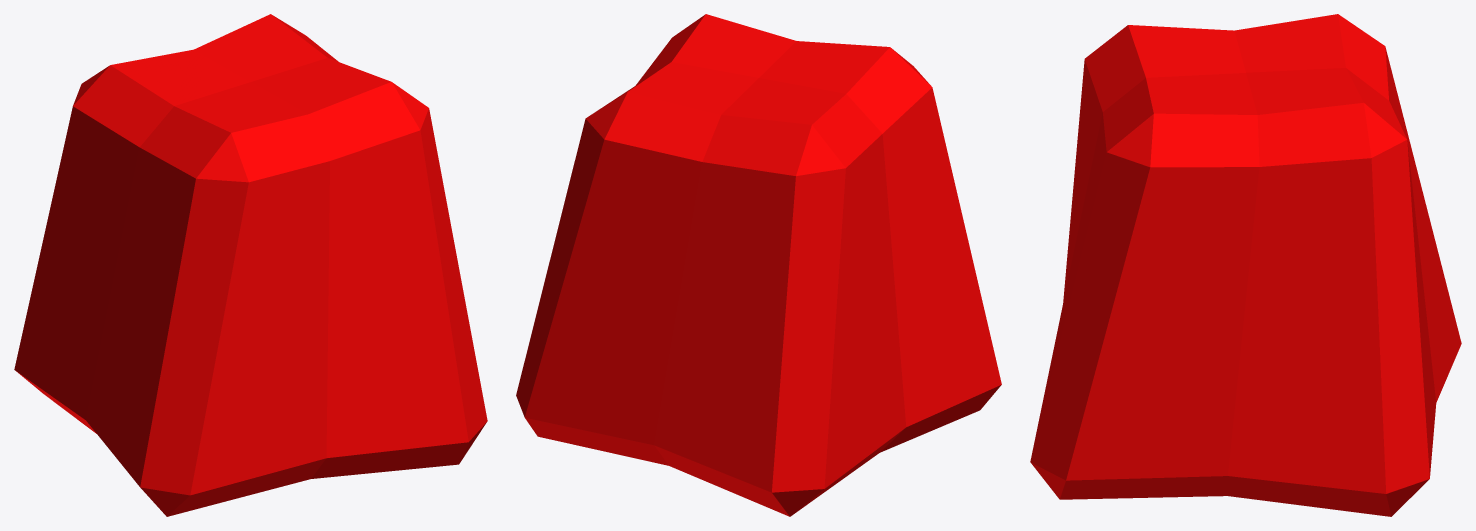
The model's file is jelly.fbx.
3 renders of one model, left to right at view 1: azimuth 30°, elevation 25°; view 2: azimuth 150°, elevation 25°; view 3: azimuth 270°, elevation 25°, orthographic. The views are drawn at different scales.
Parts seen in each view (by area): view 1: Cube; view 2: Cube; view 3: Cube.
Boxes of the visible parts, x1=… form: Cube: x1=14, y1=14, x2=487, y2=516; Cube: x1=516, y1=14, x2=1001, y2=516; Cube: x1=1030, y1=14, x2=1461, y2=516.
Bounding box in the file's own units: 0.1035 × 0.0991 × 0.1035.
Materials: 1 (1 with a texture image).
